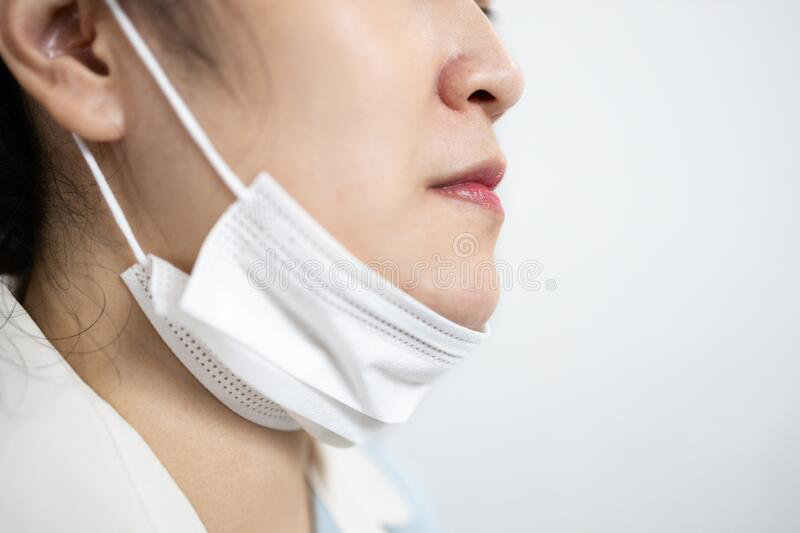mask_weared_incorrect: (37, 1, 532, 456)
